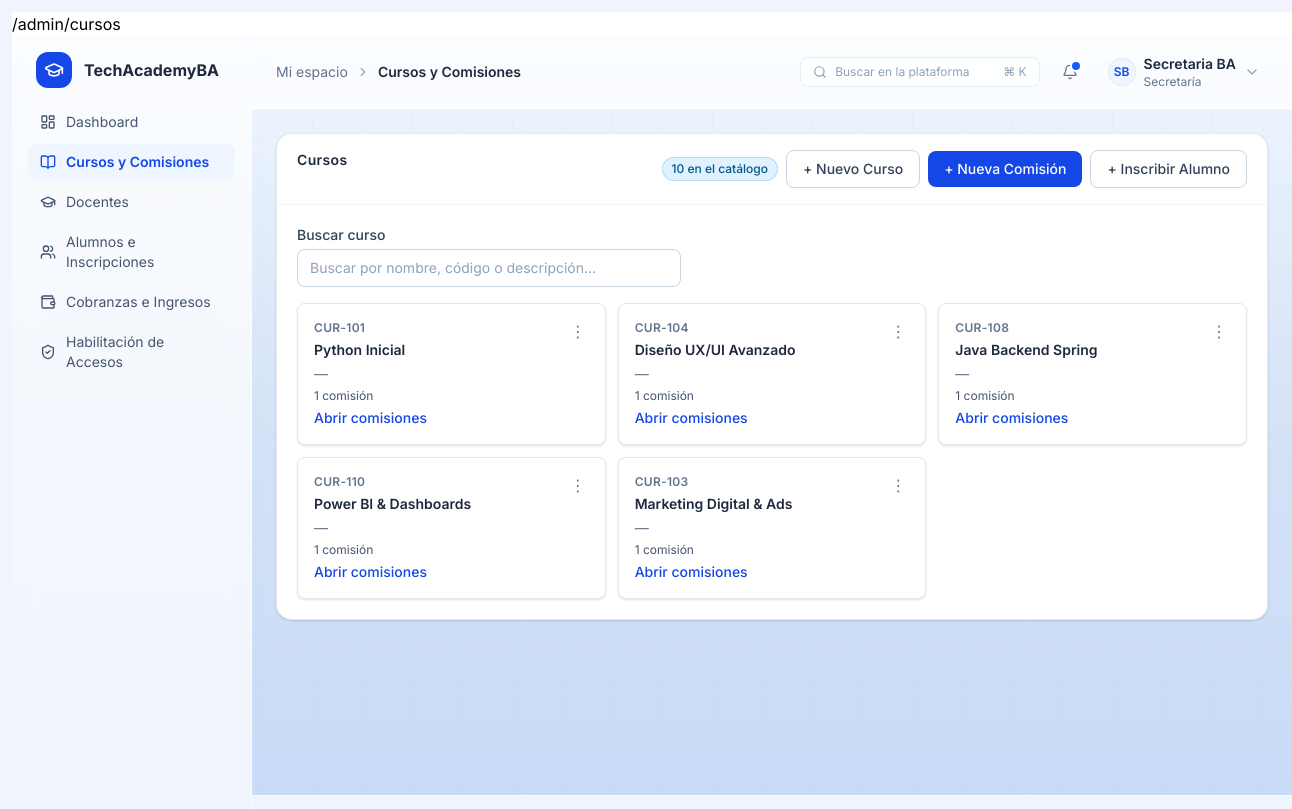
Scenario: vista de cursos › abre el curso de la tarjeta y muestra la tabla de sus comisiones
Expected: the heading "Cursos" is shown, [297, 150, 348, 170]
Click the button "CUR-104 Diseño UX/UI Avanzado — 1 comisión Abrir comisiones". click: (662, 328)
box: [618, 303, 926, 445]
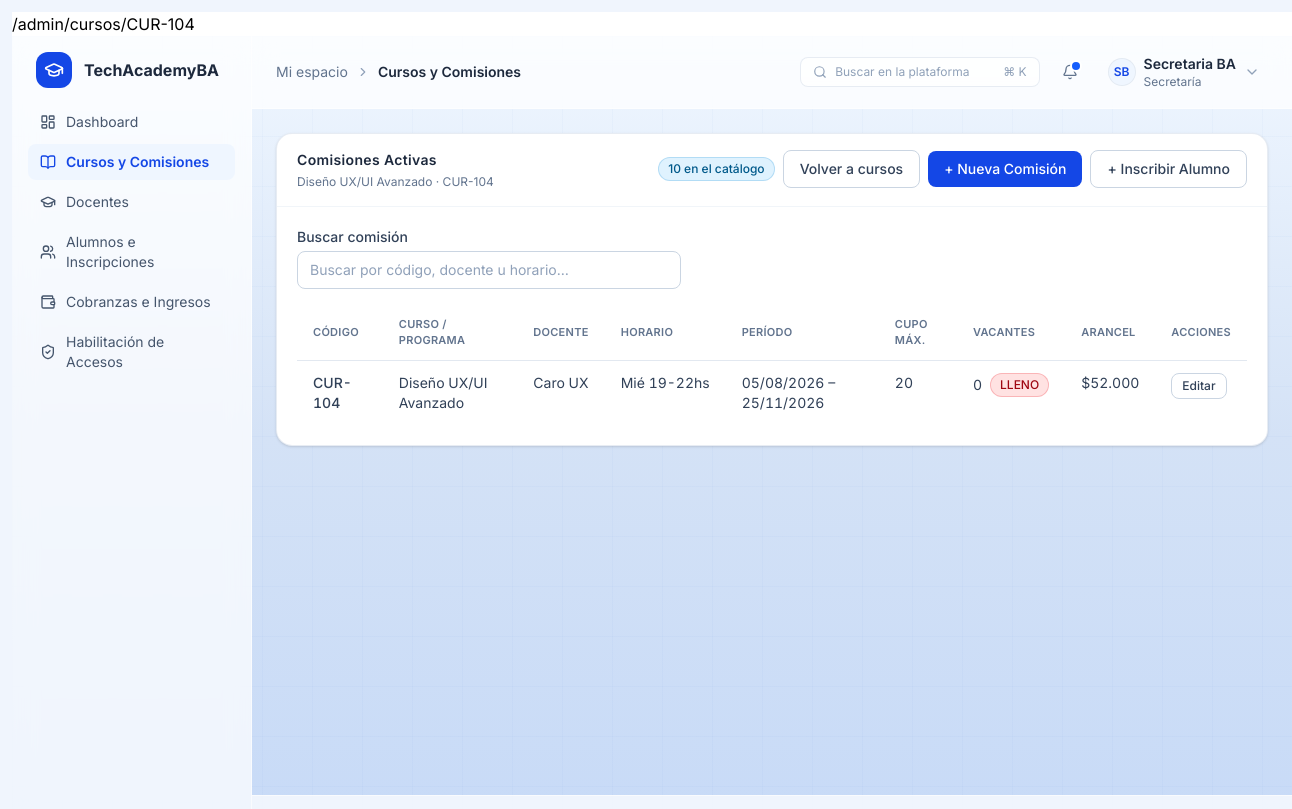
Expected: the text with test id "current-path" reads "/admin/cursos/CUR-104", [12, 14, 195, 34]
Expected: the heading "Comisiones Activas" is shown, [297, 151, 437, 168]
Expected: the text "Diseño UX/UI Avanzado · CUR-104" is shown, [297, 174, 494, 190]
